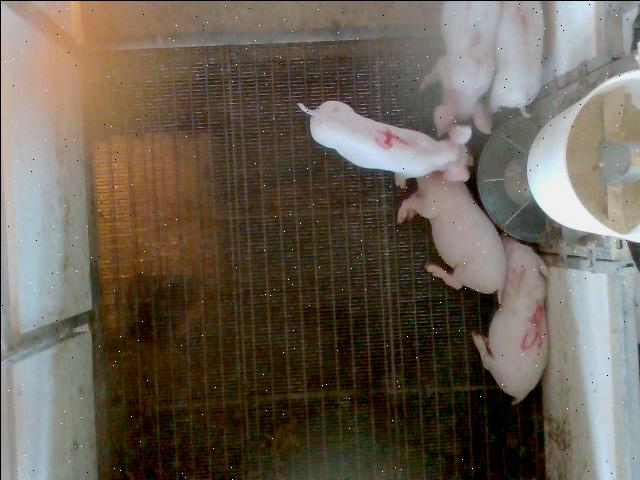pig-1: (491, 1, 541, 111)
pig-3: (434, 2, 499, 134)
pig-4: (298, 100, 470, 179)
pig-5: (471, 234, 548, 402)
